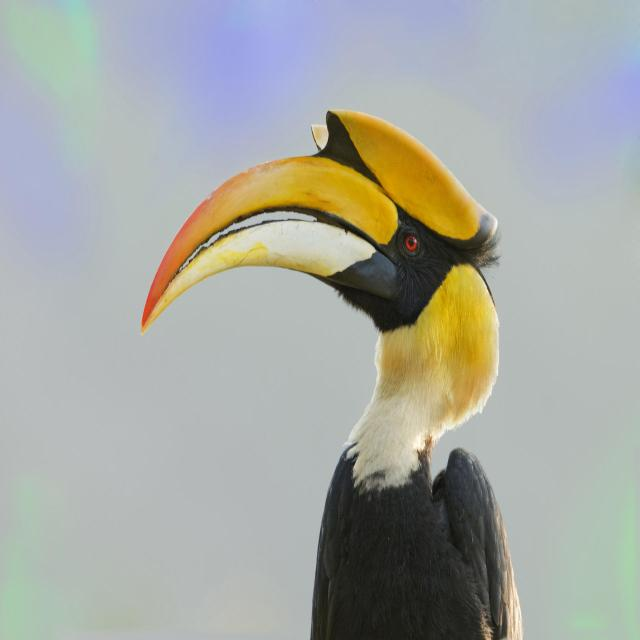Hornbill: (138, 99, 524, 640)
